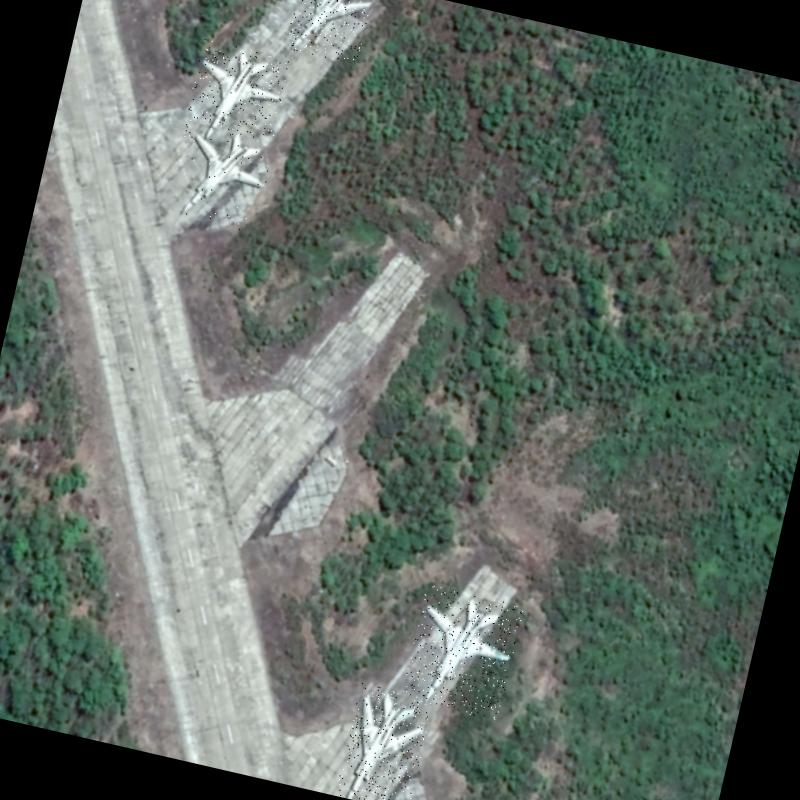A12: (400, 584, 524, 721), (181, 38, 291, 158), (334, 682, 433, 800), (172, 120, 275, 233), (284, 0, 375, 65)
